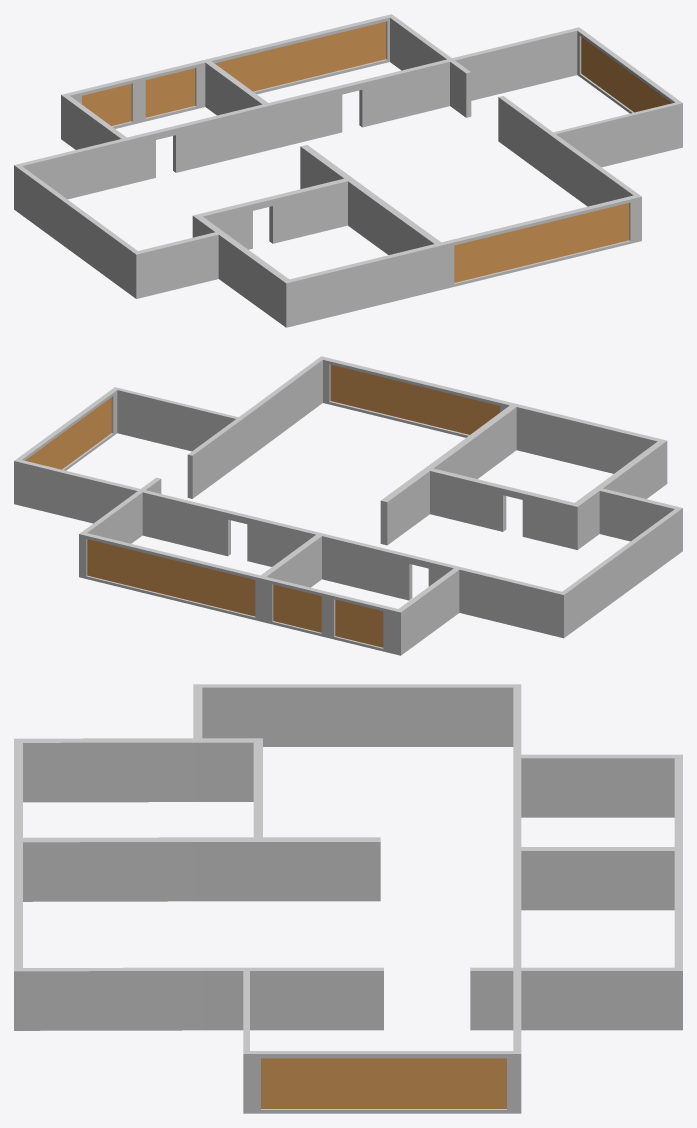
Rendered from offic_space_windows_doors2.fbx.
3 renders of one model, top to bottom at view 1: azimuth 30°, elevation 25°; view 2: azimuth 150°, elevation 25°; view 3: azimuth 270°, elevation 25°, orthographic. The views are drawn at different scales.
Parts seen in each view (by area): view 1: Cube.001, Plane.005, Plane.001, Plane.004, Plane.003, Plane.002; view 2: Cube.001, Plane.001, Plane.005, Plane.004, Plane.003, Plane.002; view 3: Cube.001, Plane.004.
Part boxes in pixels (x1,y1,x2,y2): Cube.001: (14,14,682,327); Plane.005: (454,203,629,282); Plane.001: (215,21,386,91); Plane.004: (581,37,671,112); Plane.003: (145,68,195,117); Plane.002: (82,83,131,125); Cube.001: (14,356,682,655); Plane.001: (87,539,255,616); Plane.005: (330,365,500,434); Plane.004: (25,397,111,469); Plane.003: (273,584,321,632); Plane.002: (335,599,383,647); Cube.001: (14,684,682,1113); Plane.004: (261,1058,506,1108).
Bounding box in the file's own units: 3557 × 267 × 2720.
